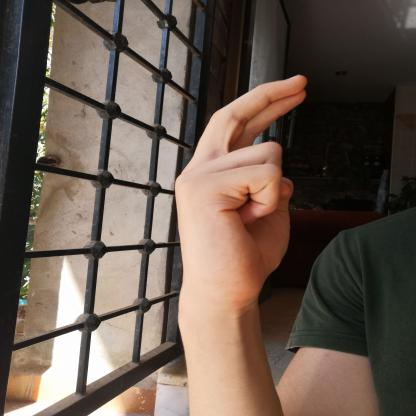ZAY: (160, 65, 325, 311)
